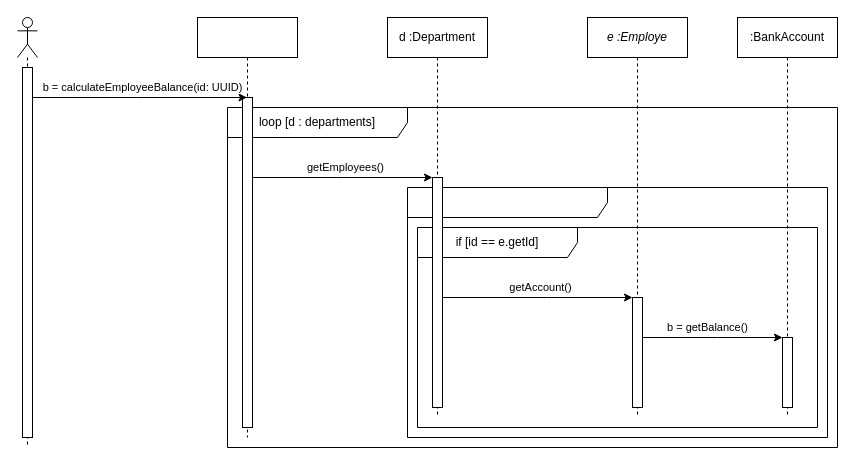
The diagram is 855 pixels wide and 465 high, and some of its shapes have lost their labels. The shapes that lost their labels are listed below. From the top down, each one's box as (x1, y1, x2, y2) in pixels, then its label:
(196, 16, 298, 438): :SabanaPayroll
(406, 186, 828, 438): loop [e : employees]
